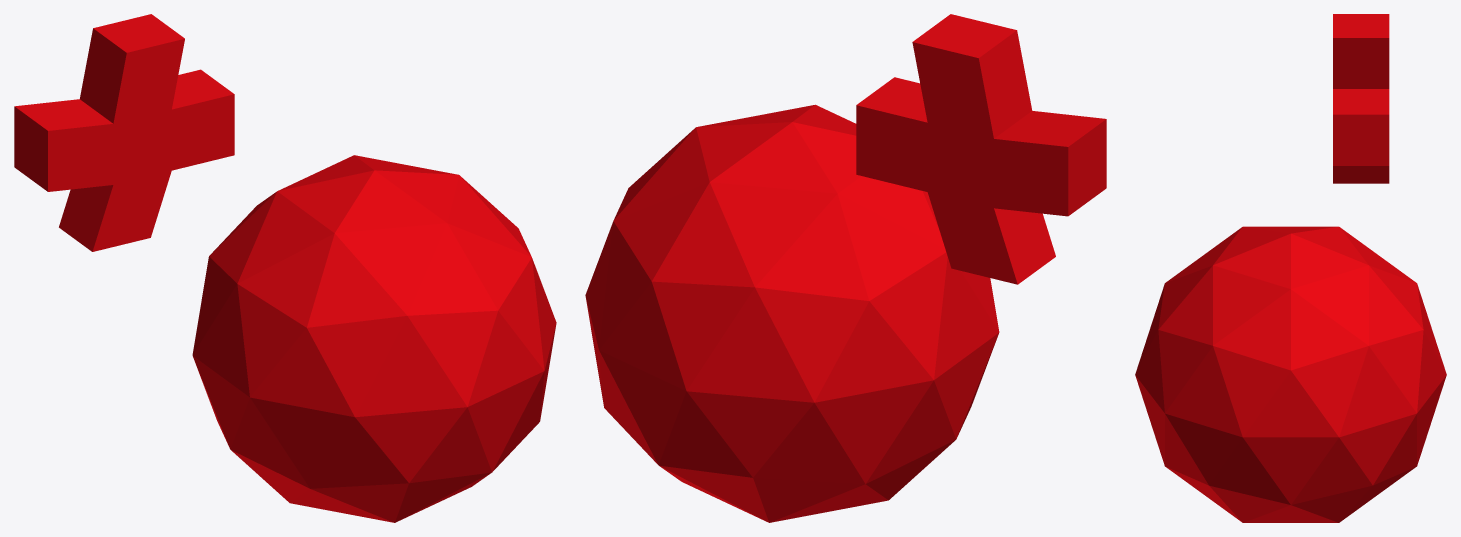
Rendered from proton.dae.
3 views of the same model, side by side, from view 1: azimuth 30°, elevation 25°; view 2: azimuth 150°, elevation 25°; view 3: azimuth 270°, elevation 25° (orthographic). The views are drawn at different scales.
Visible parts, largest first — view 1: proton; view 2: proton; view 3: proton.
Boxes of the visible parts, x1,y1,x2,y2 form: proton: (14, 14, 556, 522); proton: (585, 14, 1106, 522); proton: (1135, 14, 1446, 522).
Size of the model in its own units: 2.14 by 1.52 by 2.21.
